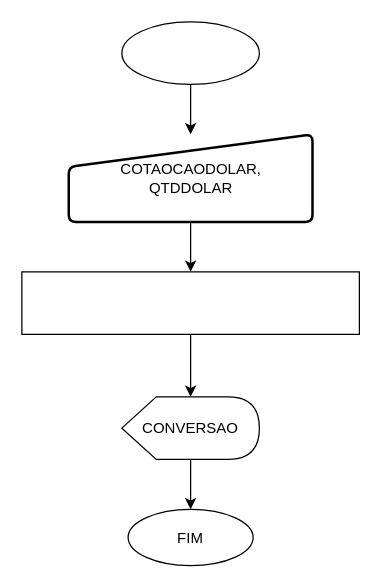
The diagram is 381 pixels wide and 588 high, and some of its shapes have lost their labels. Each missing label, with the centre of its shape:
"CONVERSAO<-COTACAODOLAR*QTDDOLAR" belongs at (x=190, y=302).
"INICIO" belongs at (x=190, y=52).
